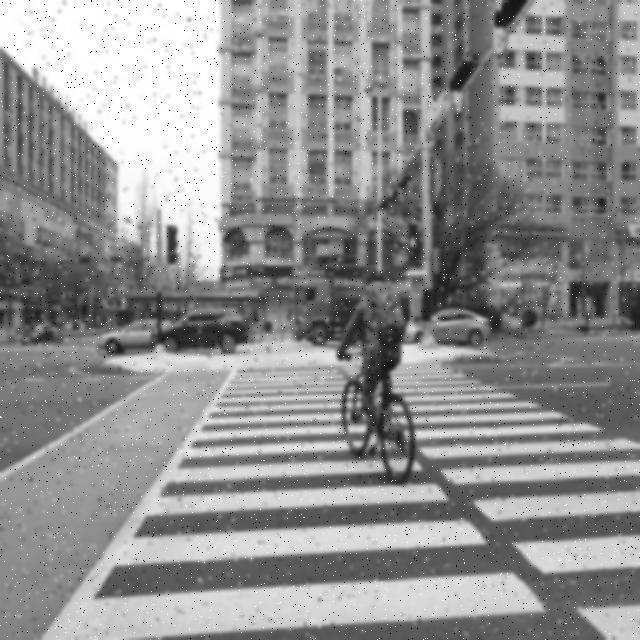crosswalk: (83, 365, 546, 614), (346, 363, 640, 640)
